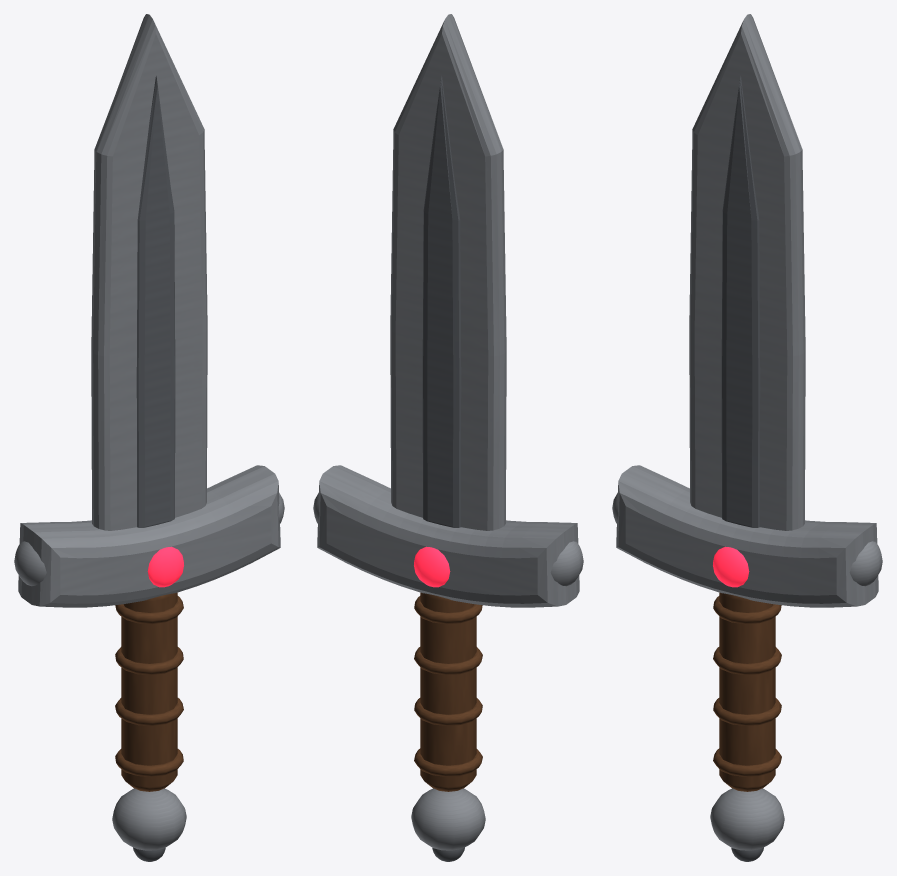
Rendered from dagger.glb.
The picture shows the model from 3 angles, left to right: view 1: azimuth 30°, elevation 25°; view 2: azimuth 150°, elevation 25°; view 3: azimuth 330°, elevation 25°; orthographic projection.
Visible parts, largest first — view 1: blade, guard, grip, pommel; view 2: blade, guard, grip, pommel; view 3: blade, guard, grip, pommel.
Part boxes in pixels (<box>): blade: <box>91,14,207,530</box>; guard: <box>14,465,284,607</box>; grip: <box>115,592,183,791</box>; pommel: <box>112,788,186,861</box>; blade: <box>390,14,506,530</box>; guard: <box>313,465,583,607</box>; grip: <box>414,592,482,791</box>; pommel: <box>411,788,485,861</box>; blade: <box>689,14,805,530</box>; guard: <box>612,465,882,607</box>; grip: <box>713,592,781,791</box>; pommel: <box>710,788,784,861</box>.
Size of the model in its own units: 0.162 by 0.4986 by 0.0457.
Materials: 4 (3 with a texture image).
